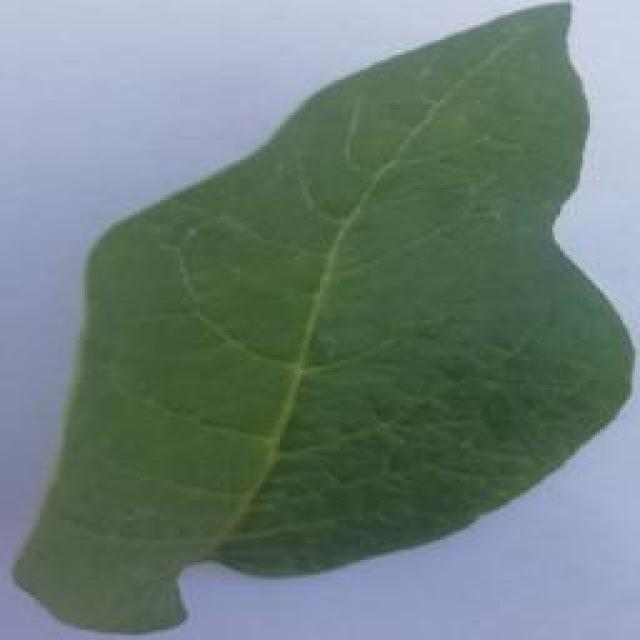Potato_Healthy: (15, 5, 623, 633)
